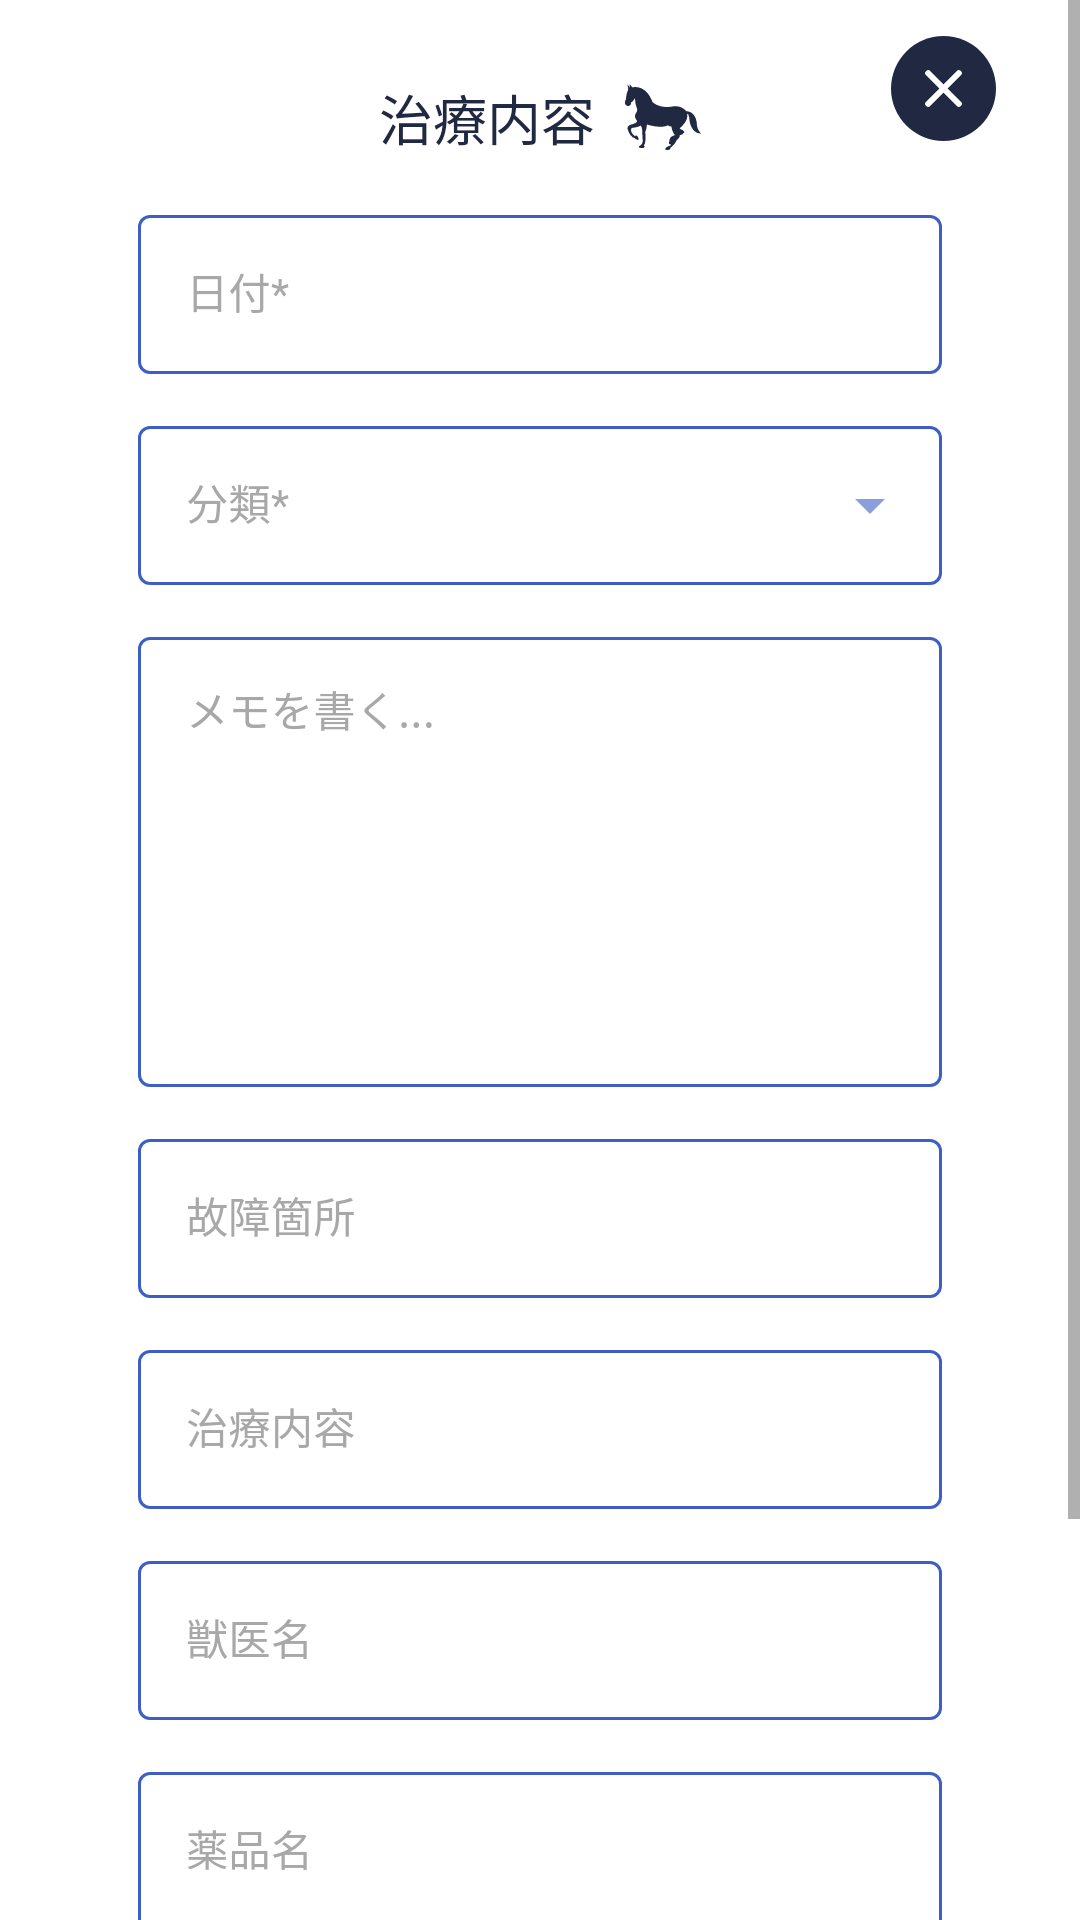

Locate icon controls on the screen. Image size 1080 x 1920, boxes as BBox(x1, y1, x2, y2).
close: BBox(891, 36, 996, 141)
